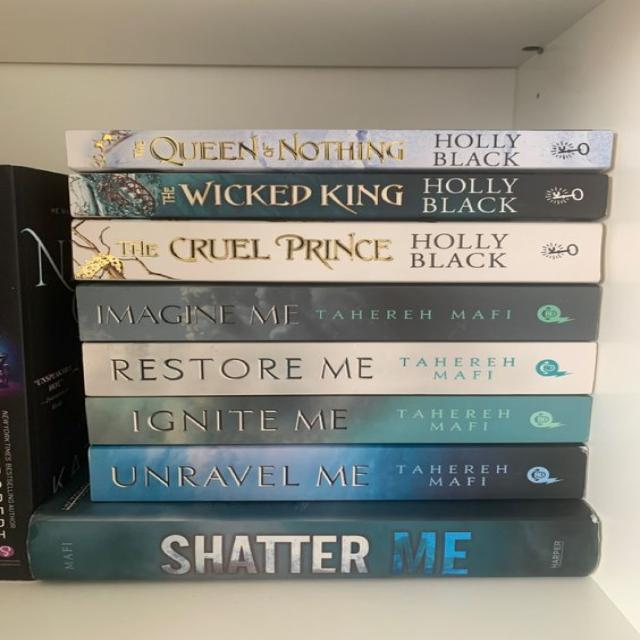book: (73, 221, 603, 283), (33, 518, 595, 576), (78, 283, 599, 342), (88, 446, 588, 499), (83, 343, 592, 395), (71, 172, 608, 221), (88, 398, 590, 443), (66, 132, 612, 170)
